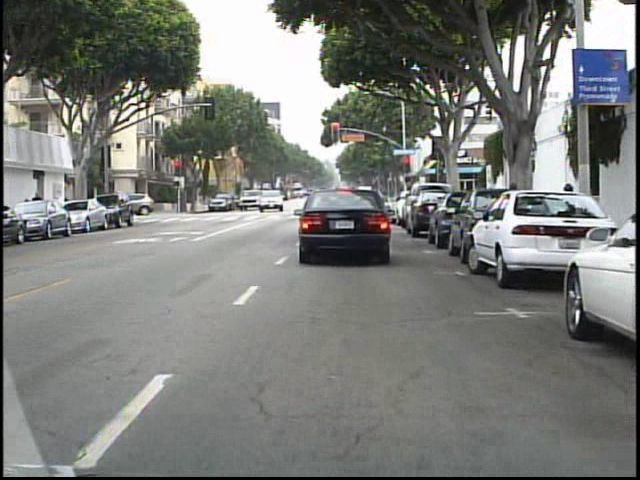person: (30, 188, 47, 229), (132, 189, 148, 218)
